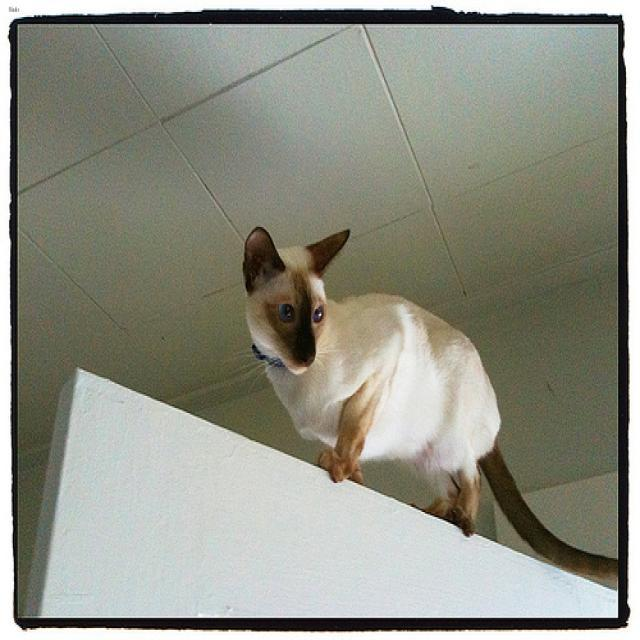Siamese: (238, 214, 350, 371)
